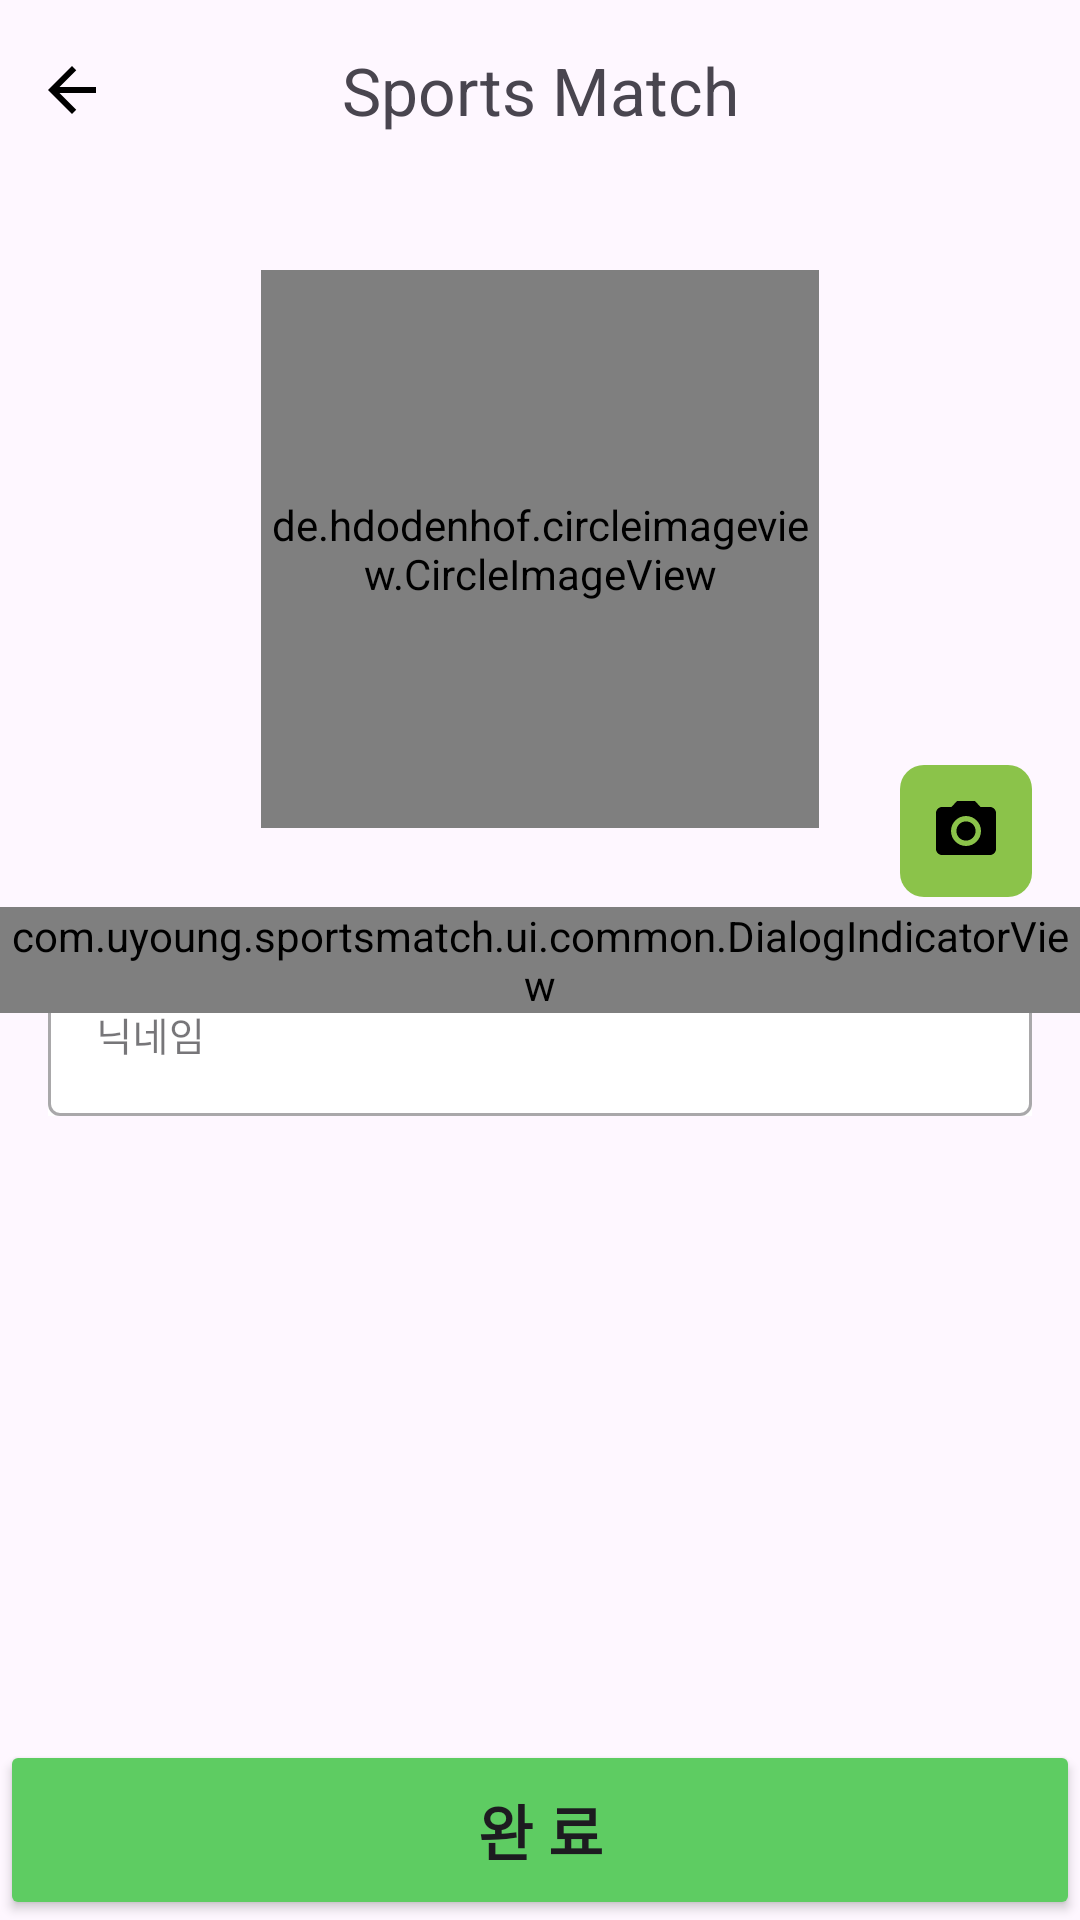

Screen size 1080px x 1920px. Icon name, then its center in pixels as [x,y]:
add picture: [966,831]
back: [72,90]
